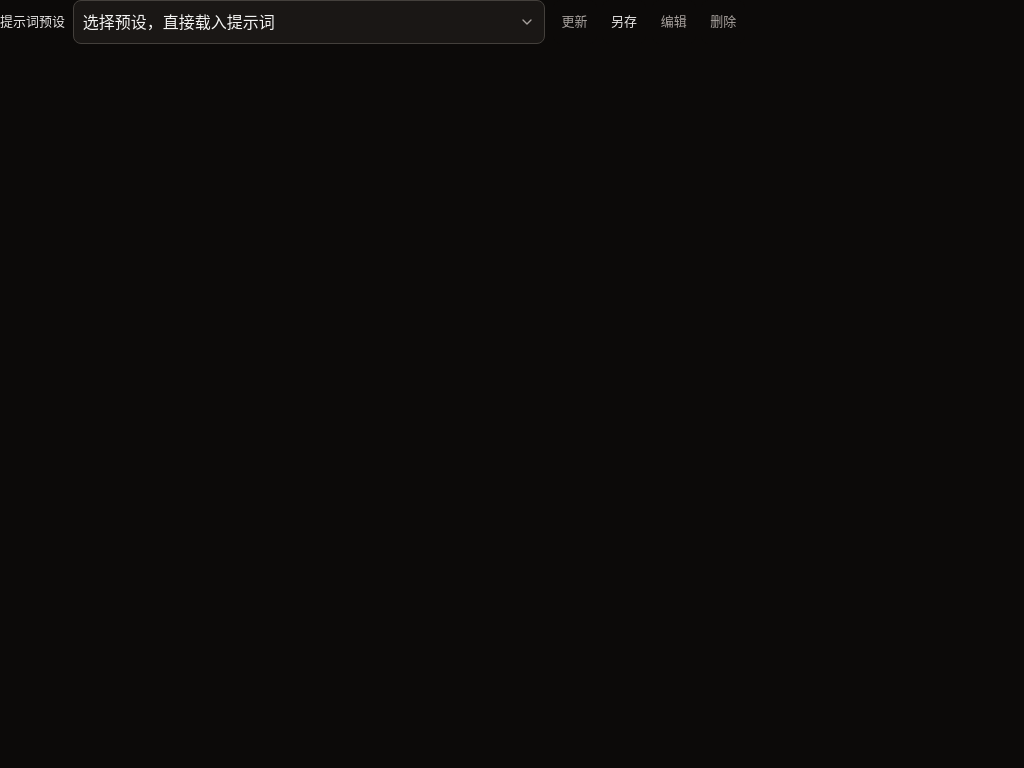
Scenario: shows four persistent actions and enables selection-dependent actions only after choosing a preset
The image size is (1024, 768).
Expected: the button "更新" is disabled, [552,0,596,44]
Expected: the button "另存" is enabled, [602,0,646,44]
Click the button "选择预设，直接载入提示词". click: {"x": 179, "y": 22}
box: [73,0,544,44]
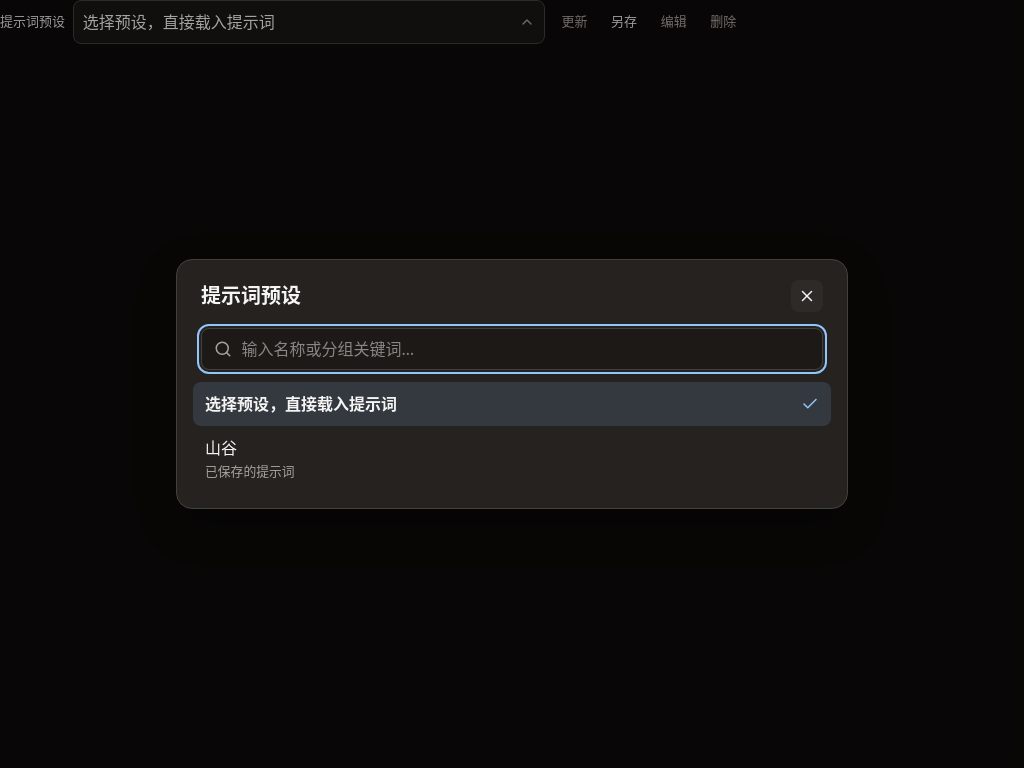
Click the button with class "model-picker-option" showing "山谷 已保存的提示词". click: {"x": 221, "y": 448}
box: [193,426,831,492]
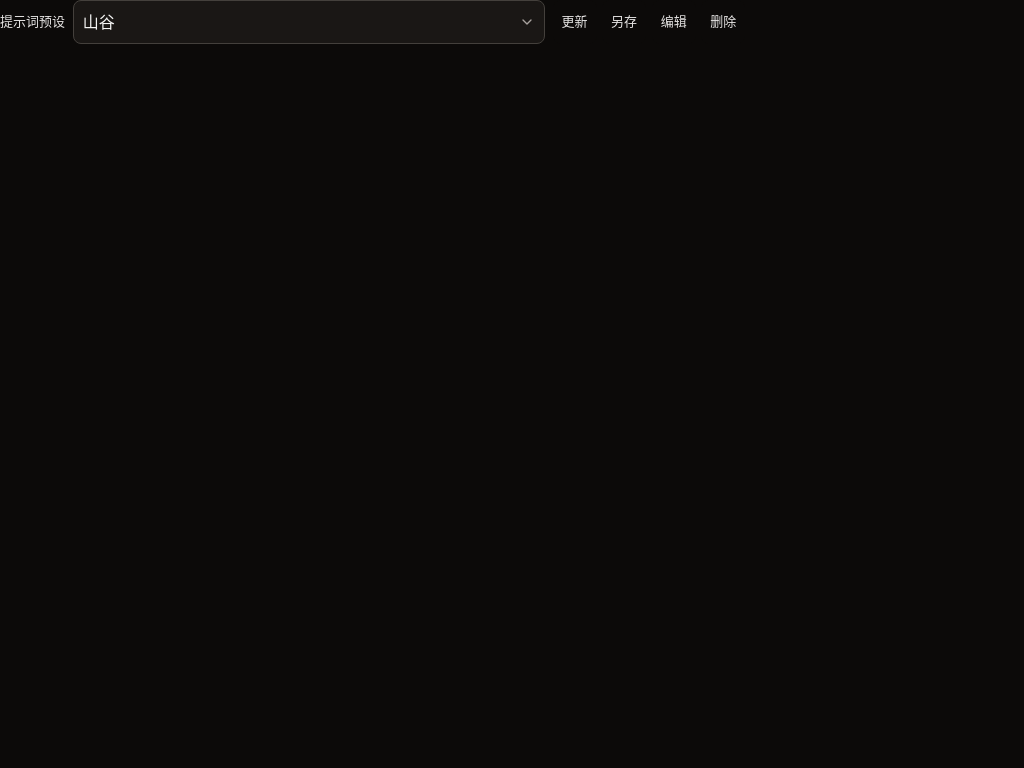
Result: the button "更新" is enabled at [552,0,596,44]
Result: the button "编辑" is enabled at [652,0,696,44]
Result: the button "删除" is enabled at [701,0,745,44]
